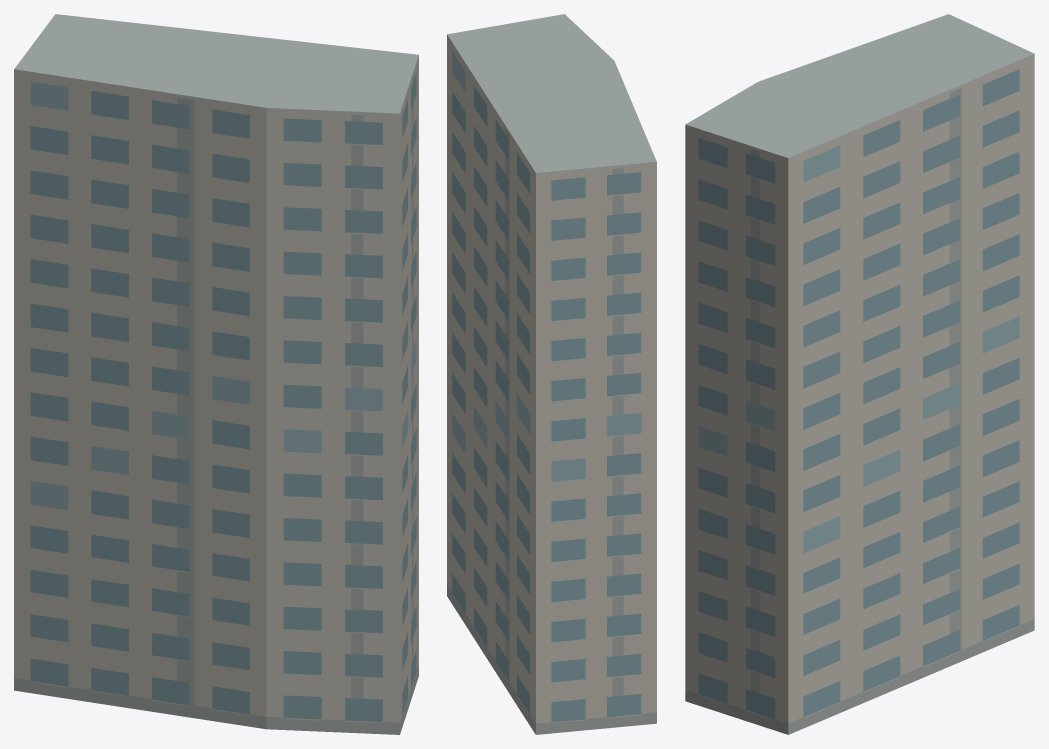
The model's file is residential-f9558d5f-17b8-4634-b907-98558e808027.glb.
3 renders of one model, left to right at view 1: azimuth 30°, elevation 25°; view 2: azimuth 150°, elevation 25°; view 3: azimuth 270°, elevation 25°, orthographic. The views are drawn at different scales.
Parts seen in each view (by area): view 1: residential-f9558d5f-17b8-4634-b907-98558e808027.tmp; view 2: residential-f9558d5f-17b8-4634-b907-98558e808027.tmp; view 3: residential-f9558d5f-17b8-4634-b907-98558e808027.tmp.
Part boxes in pixels (x1=…): residential-f9558d5f-17b8-4634-b907-98558e808027.tmp: x1=14, y1=14, x2=418, y2=734; residential-f9558d5f-17b8-4634-b907-98558e808027.tmp: x1=447, y1=14, x2=656, y2=734; residential-f9558d5f-17b8-4634-b907-98558e808027.tmp: x1=685, y1=14, x2=1034, y2=734.
Size of the model in its own units: 23.6 by 44 by 24.15.
